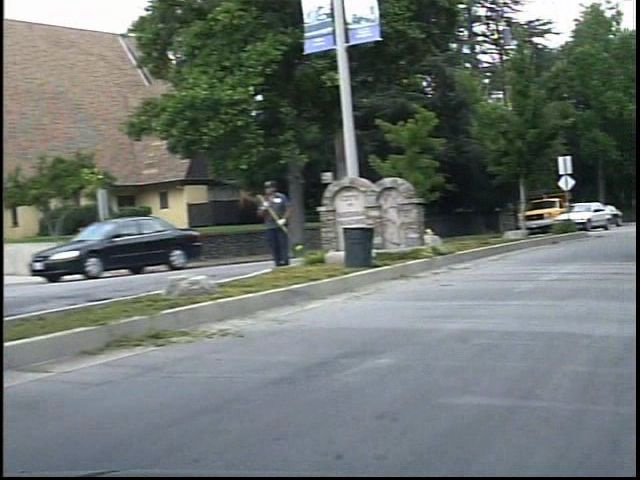person: (266, 177, 306, 269)
